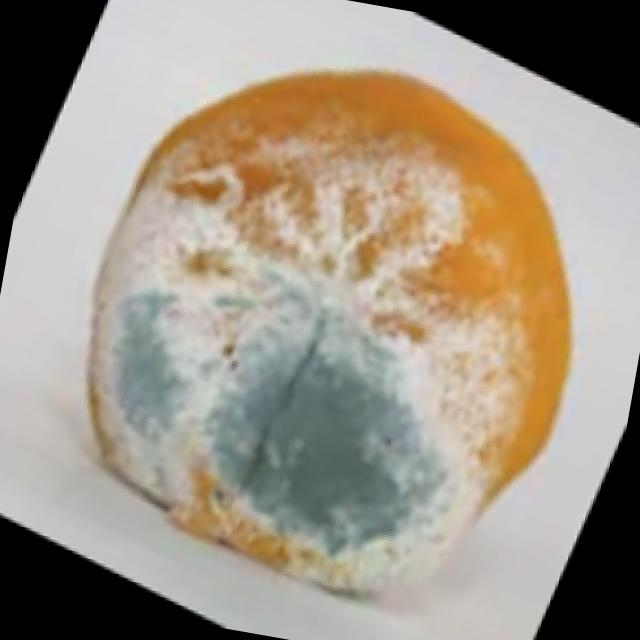Rotten_Orange: (19, 83, 612, 594)
